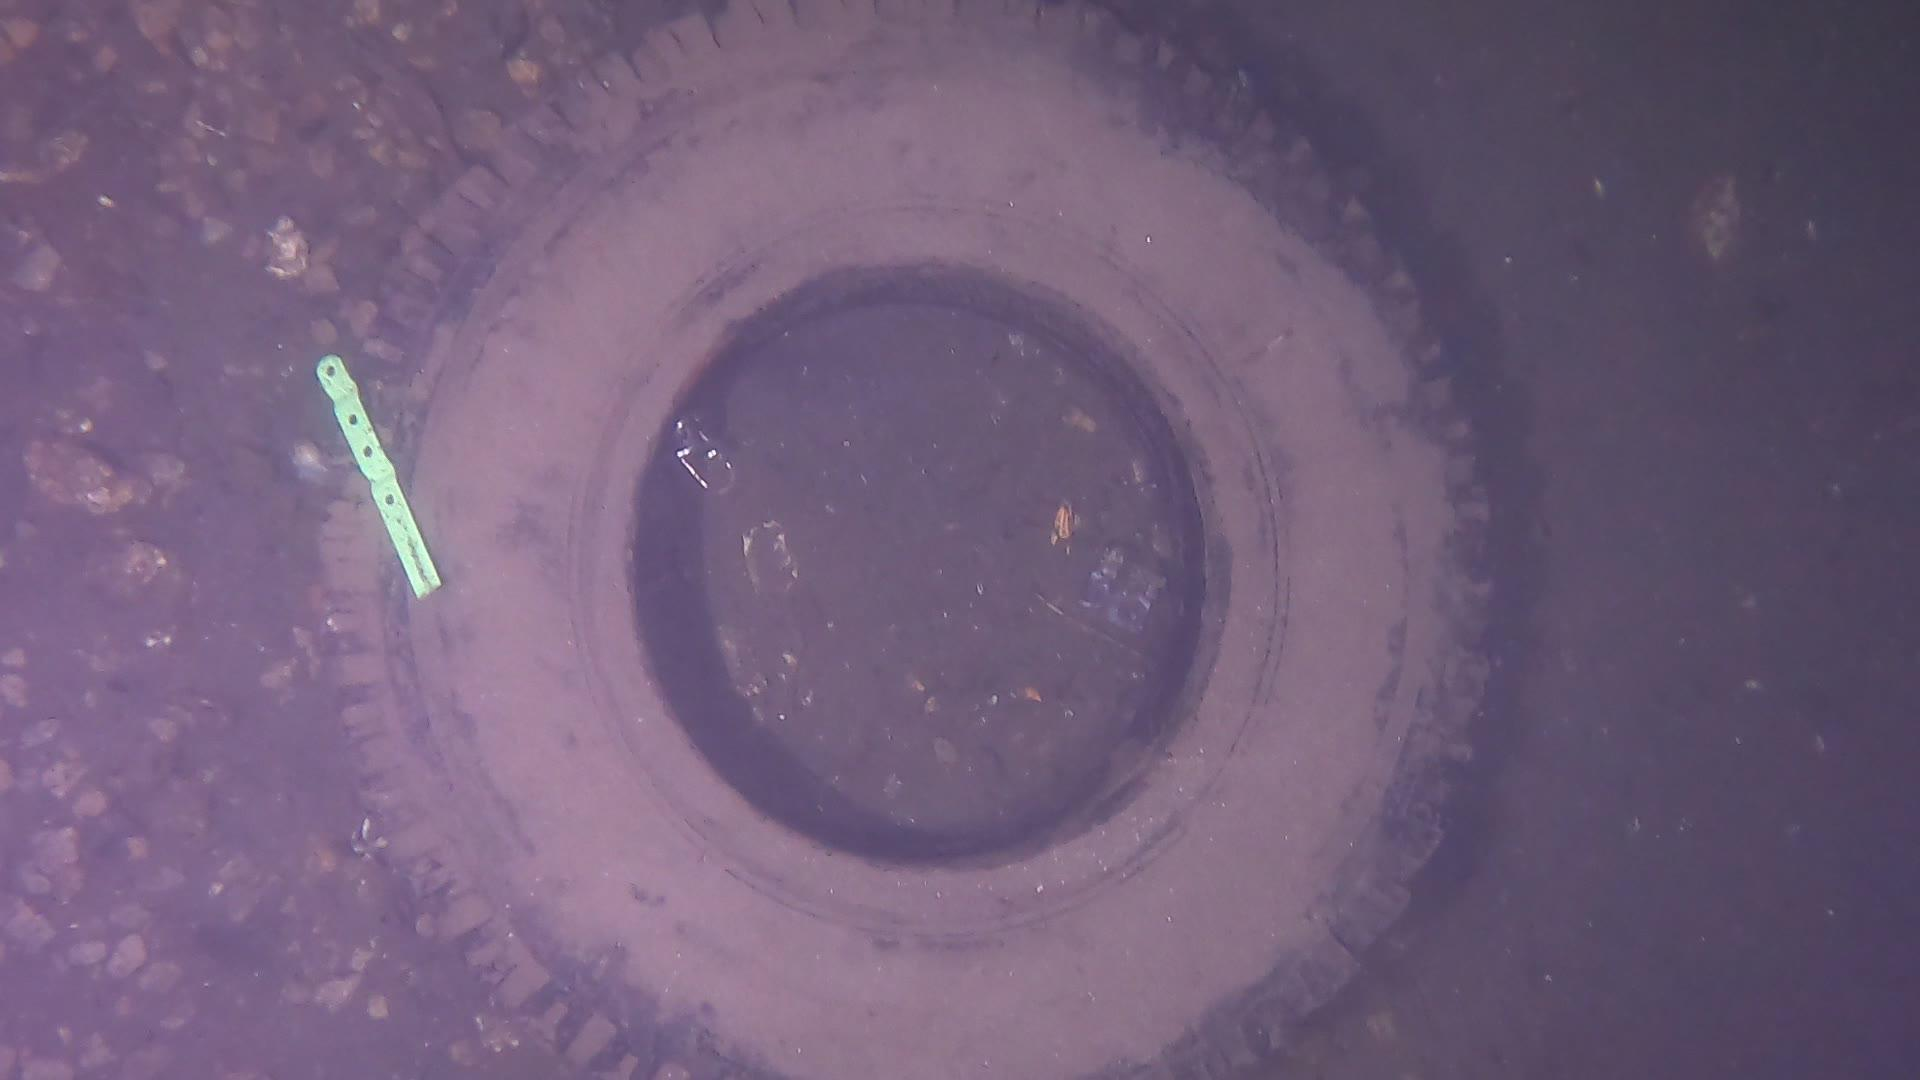tire: (313, 0, 1505, 1080)
